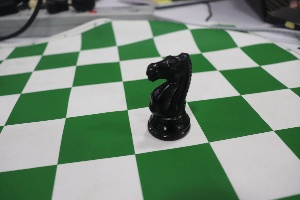black_horse: (137, 38, 195, 145)
